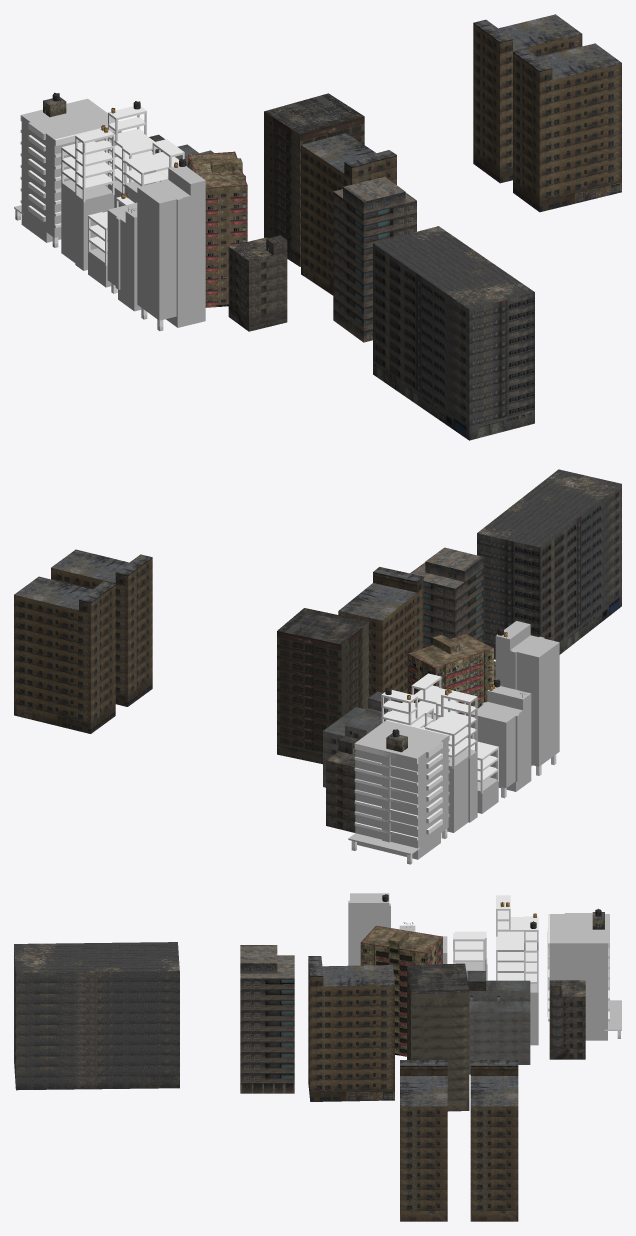
Rendered from Buildings Set 03.fbx.
3 renders of one model, top to bottom at view 1: azimuth 30°, elevation 25°; view 2: azimuth 150°, elevation 25°; view 3: azimuth 270°, elevation 25°, orthographic. The views are drawn at different scales.
Visible parts, largest first — view 1: Tower07 (×3), Tower05, BlueTall_01, Tower08, Tower04, Commercial_01, Tower01, Tower03, ConstTower_02, BlueTall_02, ConstTower_05; view 2: Tower07 (×3), Tower05, Tower04, Commercial_01, BlueTall_01, Tower08, BlueTall_02, Tower01, ConstTower_02, Tower03, Tower02, ConstTower_05; view 3: Tower07 (×3), Tower05, Tower08, Tower04, Commercial_01, Tower02, Tower01, Tower03, BlueTall_01, ConstTower_03.
Boxes of the visible parts, x1=… form: Tower07 (×3): x1=301, y1=14, x2=621, y2=295; Tower05: x1=373, y1=226, x2=534, y2=440; BlueTall_01: x1=137, y1=165, x2=205, y2=331; Tower08: x1=333, y1=176, x2=416, y2=342; Tower04: x1=264, y1=93, x2=364, y2=266; Commercial_01: x1=14, y1=98, x2=121, y2=247; Tower01: x1=188, y1=151, x2=247, y2=307; Tower03: x1=228, y1=235, x2=287, y2=331; ConstTower_02: x1=61, y1=136, x2=114, y2=270; BlueTall_02: x1=107, y1=202, x2=141, y2=311; ConstTower_05: x1=88, y1=228, x2=111, y2=287; Tower07 (×3): x1=14, y1=549, x2=423, y2=733; Tower05: x1=477, y1=469, x2=621, y2=659; Tower04: x1=277, y1=608, x2=368, y2=764; Commercial_01: x1=348, y1=720, x2=449, y2=864; BlueTall_01: x1=495, y1=621, x2=559, y2=766; Tower08: x1=410, y1=547, x2=483, y2=647; BlueTall_02: x1=470, y1=686, x2=531, y2=791; Tower01: x1=407, y1=633, x2=493, y2=737; ConstTower_02: x1=442, y1=696, x2=477, y2=832; Tower03: x1=326, y1=735, x2=357, y2=832; Tower02: x1=323, y1=691, x2=399, y2=787; ConstTower_05: x1=477, y1=777, x2=498, y2=813; Tower07 (×3): x1=308, y1=956, x2=518, y2=1221; Tower05: x1=14, y1=942, x2=179, y2=1090; Tower08: x1=240, y1=945, x2=294, y2=1093; Tower04: x1=407, y1=963, x2=469, y2=1111; Commercial_01: x1=548, y1=913, x2=621, y2=1040; Tower02: x1=467, y1=971, x2=530, y2=1074; Tower01: x1=360, y1=925, x2=442, y2=1056; Tower03: x1=549, y1=980, x2=585, y2=1059; BlueTall_01: x1=348, y1=893, x2=390, y2=965; ConstTower_03: x1=497, y1=942, x2=538, y2=1045.
Bounding box in the file's own units: 224 × 64.62 × 269.
